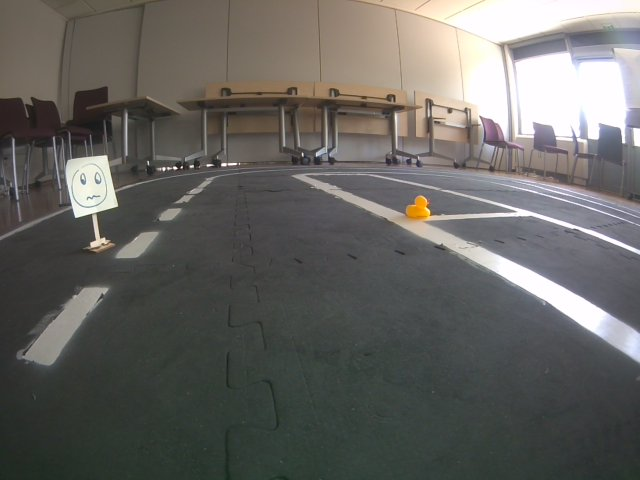Smiley: (58, 154, 120, 222)
